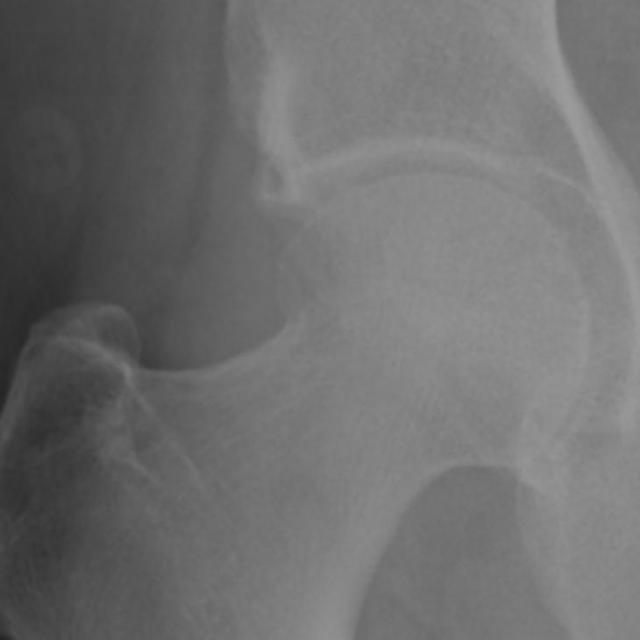Fitted_femural_head: (316, 172, 432, 316)
